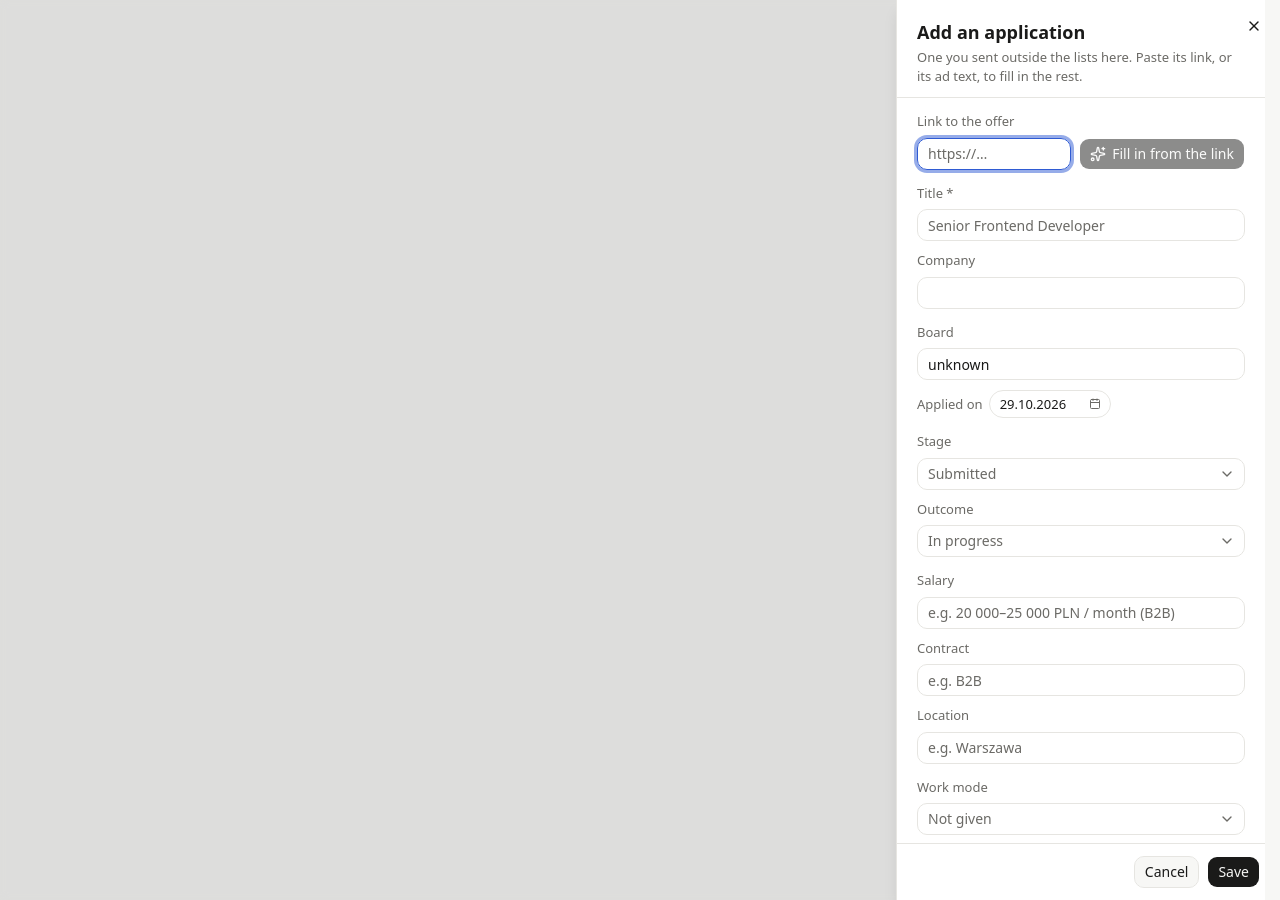
Test case: ApplicationForm › Save sends the form’s values to the action; what the server says is wrong shows by the button
This screenshot has width=1280, height=900.
Type "React Developer" into the field labelled "Title *" at (1081, 225), box top-left (917, 209), bottom-right (1245, 241)
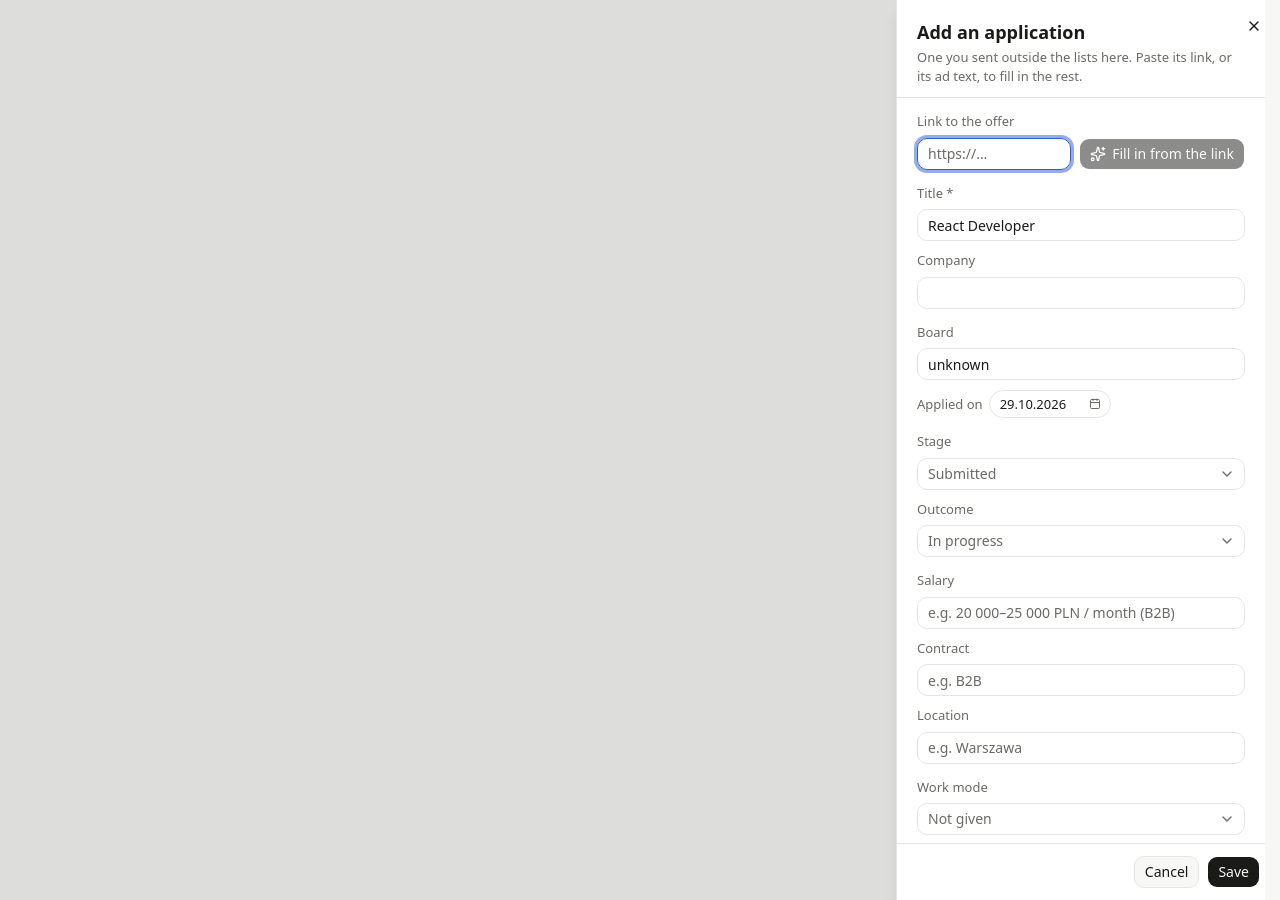
Type "Acme" into the field labelled "Company" at (1081, 293), box top-left (917, 277), bottom-right (1245, 309)
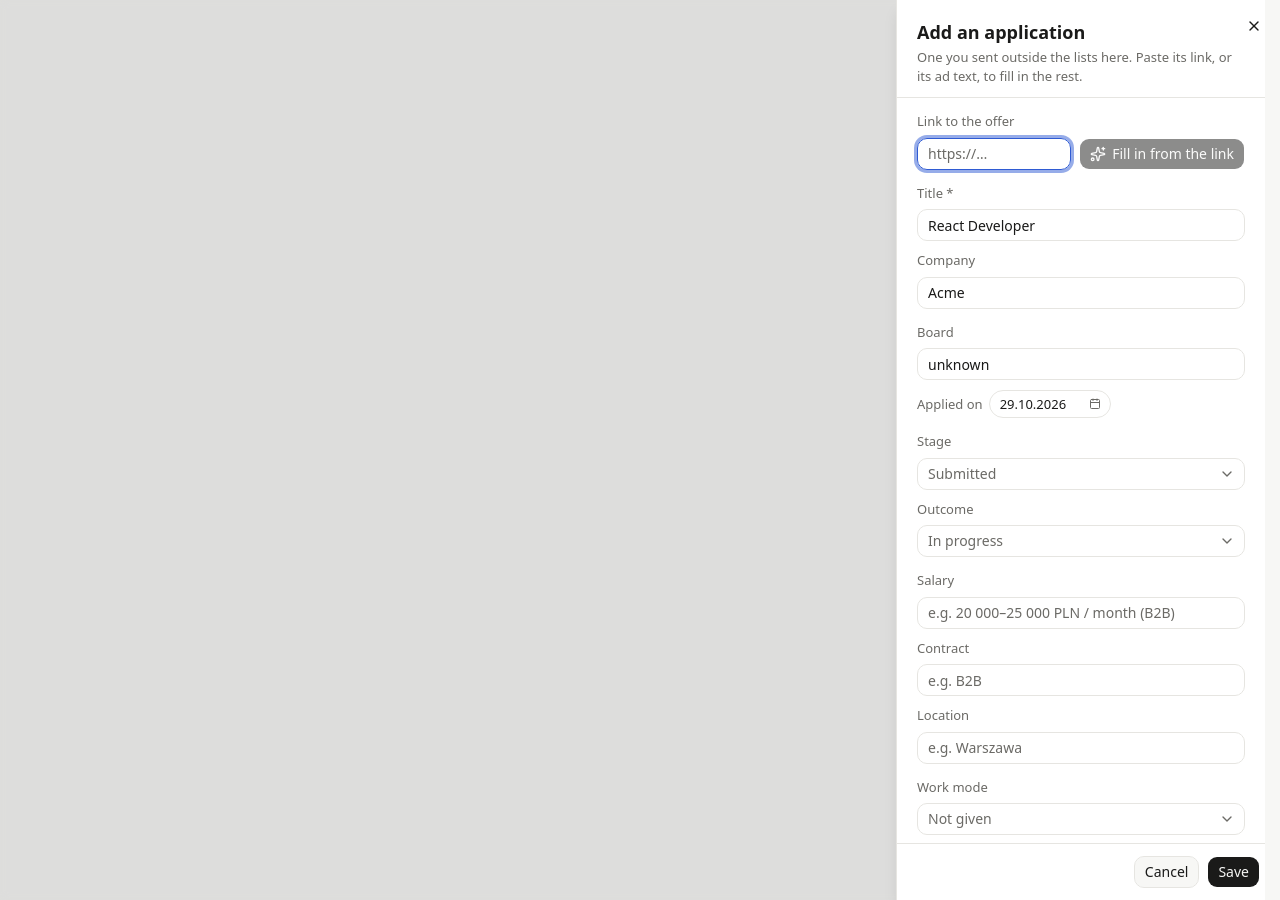
Click the button "Save" at (1234, 872), box top-left (1207, 856), bottom-right (1260, 888)
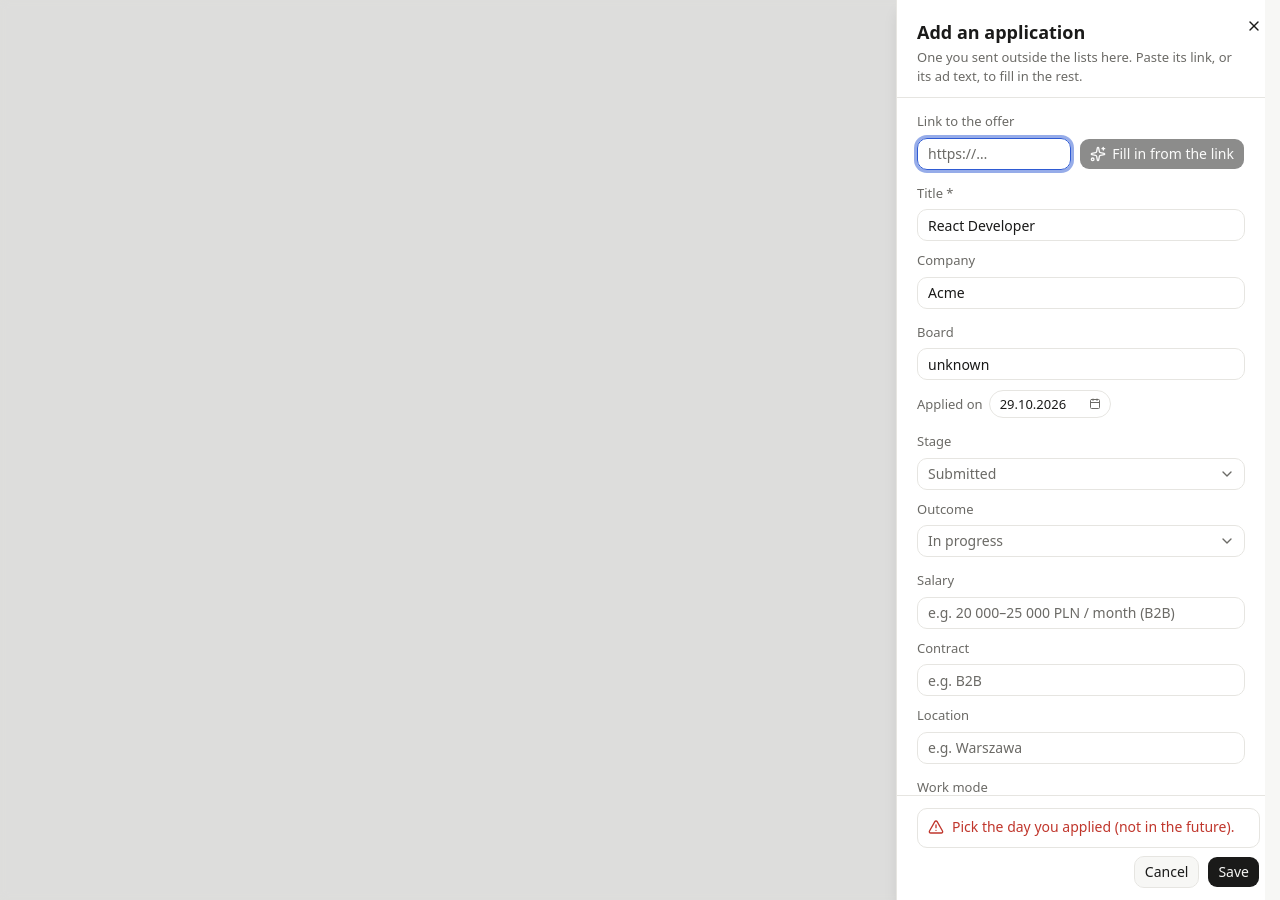
Result: the text "Pick the day you applied (not in the future)." is shown at top-left (952, 817), bottom-right (1249, 837)
Click the button "Save" at (1234, 872), box top-left (1207, 856), bottom-right (1260, 888)
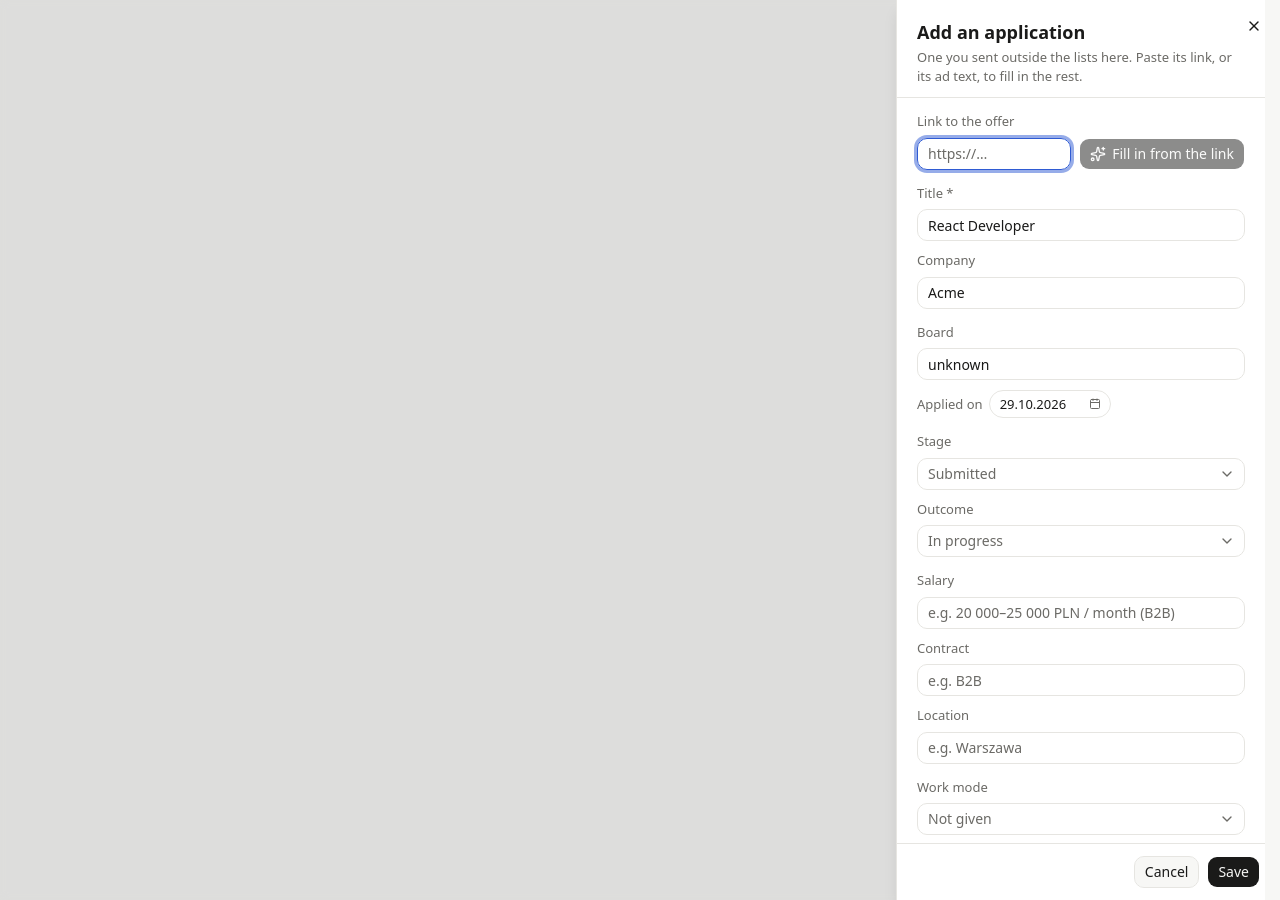
Result: the text "Pick the day you applied (not in the future)." is gone
